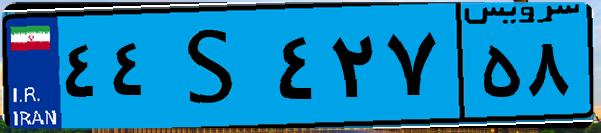2: (330, 28, 385, 110)
4: (270, 28, 330, 110), (57, 26, 110, 100), (110, 28, 158, 98)
5: (475, 38, 525, 113)
7: (385, 28, 445, 110)
8: (525, 38, 570, 115)
S: (158, 12, 270, 120)
